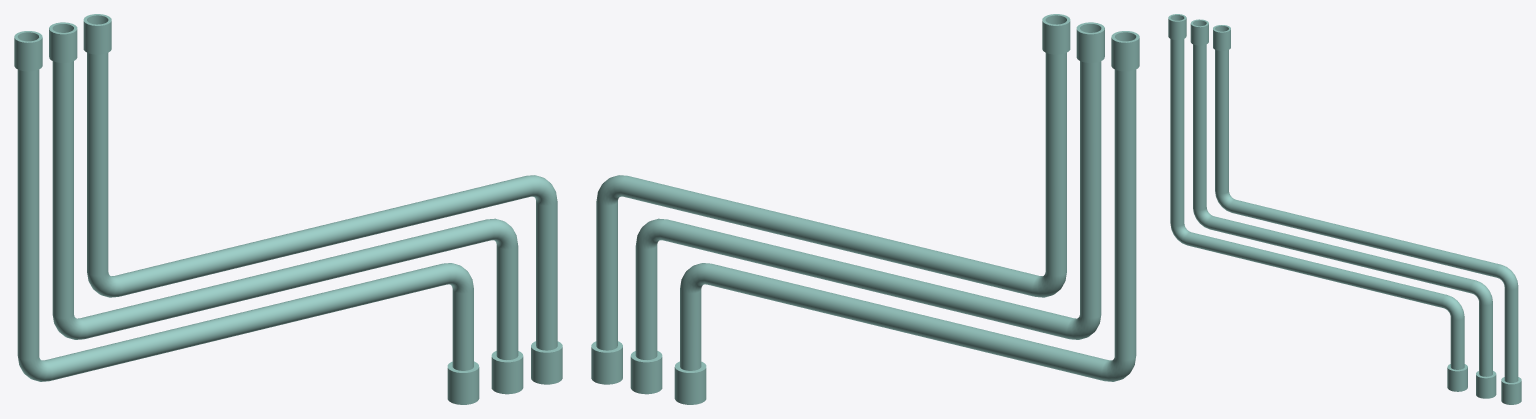
File: Pipe_Vertical_Curved_5.fbx
The picture shows the model from 3 angles, left to right: view 1: azimuth 30°, elevation 25°; view 2: azimuth 150°, elevation 25°; view 3: azimuth 330°, elevation 25°; orthographic projection. The views are drawn at different scales.
Parts seen in each view (by area): view 1: Pipe_Vertical_Curved_5; view 2: Pipe_Vertical_Curved_5; view 3: Pipe_Vertical_Curved_5.
Boxes of the visible parts, box(x1,y1,x2,y2) form: Pipe_Vertical_Curved_5: box(14, 14, 562, 404); Pipe_Vertical_Curved_5: box(591, 14, 1139, 404); Pipe_Vertical_Curved_5: box(1168, 14, 1521, 404).
Bounding box in the file's own units: 372 × 305 × 18.87.
